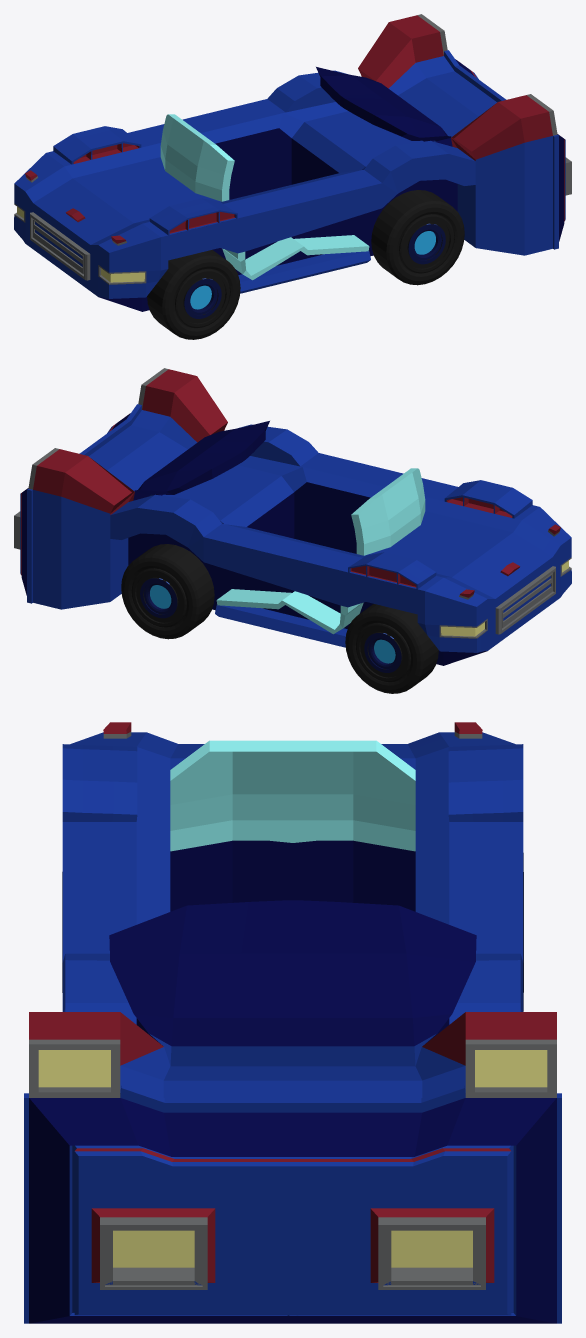
Rendered from essa coisa kart.fbx.
3 views of the same model, one above another, from view 1: azimuth 30°, elevation 25°; view 2: azimuth 150°, elevation 25°; view 3: azimuth 270°, elevation 25° (orthographic). The views are drawn at different scales.
Visible parts, largest first — view 1: Cube, Cylinder.003, Cylinder; view 2: Cube, Cylinder.002, Cylinder.001; view 3: Cube.
Boxes of the visible parts, left/top/right/bottom form: Cube: left=14, top=14, right=571, bottom=311; Cylinder.003: left=371, top=190, right=464, bottom=285; Cylinder: left=147, top=250, right=240, bottom=339; Cube: left=14, top=368, right=571, bottom=665; Cylinder.002: left=121, top=544, right=214, bottom=639; Cylinder.001: left=345, top=604, right=438, bottom=693; Cube: left=24, top=722, right=561, bottom=1323.
Bounding box in the file's own units: 1189 × 385 × 594.
